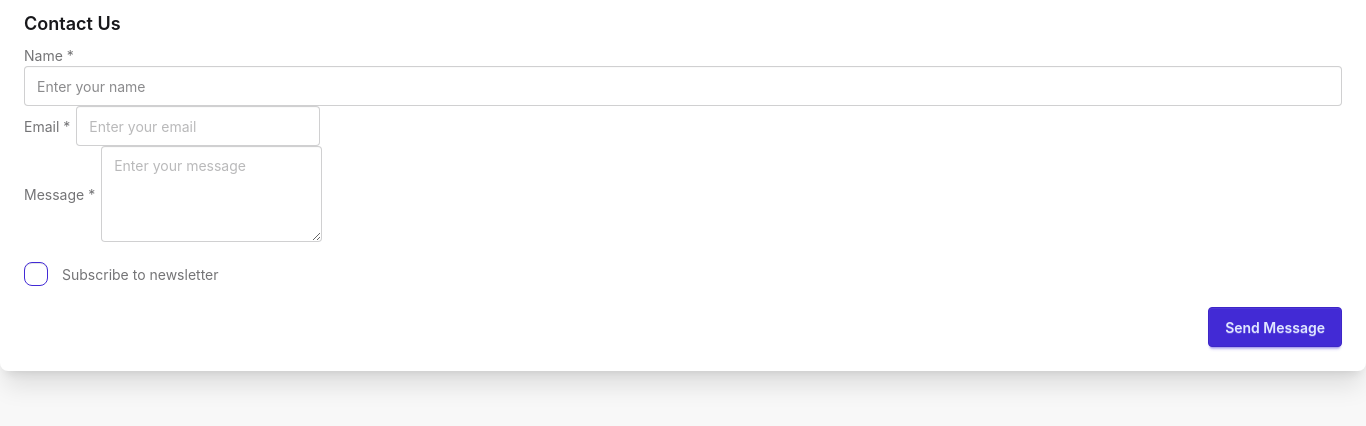
Test: ContactForm › validation errors › shows multiple validation errors at once
This screenshot has width=1366, height=426.
Step 1. Click the button "Send Message" → (1275, 327), box [1208,307,1342,347]
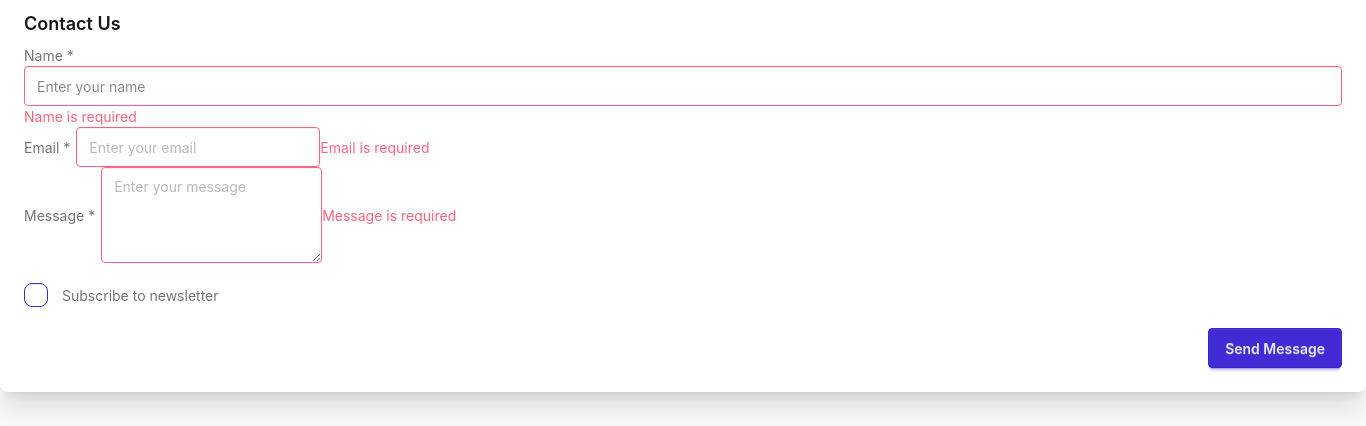
Expected: the text "Name is required" is shown, [24,106,137,127]
Expected: the text "Email is required" is shown, [320,136,430,158]
Expected: the text "Message is required" is shown, [322,204,456,226]
